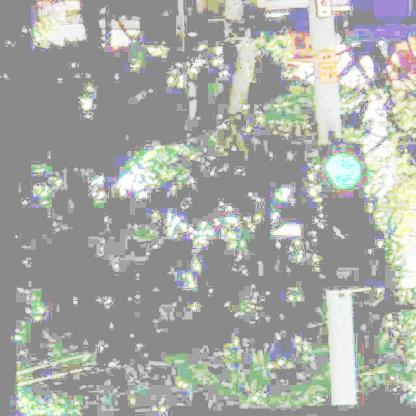Traffic Light -Green-: (319, 143, 371, 294)
